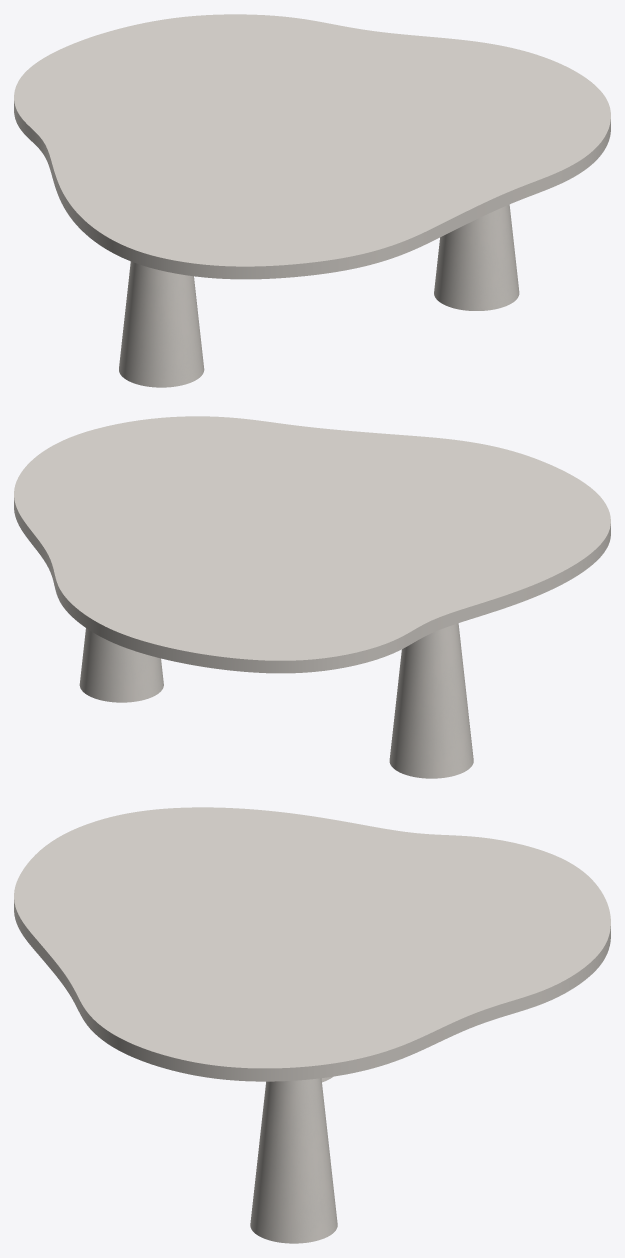
The model's file is pearlwhite_topone_standard_pebble.glb.
The picture shows the model from 3 angles, top to bottom: view 1: azimuth 30°, elevation 25°; view 2: azimuth 150°, elevation 25°; view 3: azimuth 270°, elevation 25°; orthographic projection. The views are drawn at different scales.
Parts seen in each view (by area): view 1: standard_topone, pebble; view 2: standard_topone, pebble; view 3: standard_topone, pebble.
Boxes of the visible parts, x1,y1,x2,y2 form: standard_topone: (14, 14, 610, 279); pebble: (119, 204, 519, 387); standard_topone: (14, 416, 610, 673); pebble: (79, 623, 473, 778); standard_topone: (14, 807, 610, 1081); pebble: (250, 1076, 337, 1243).
Size of the model in its own units: 6.83 by 2.5 by 6.6.
1 material, 1 textured.
